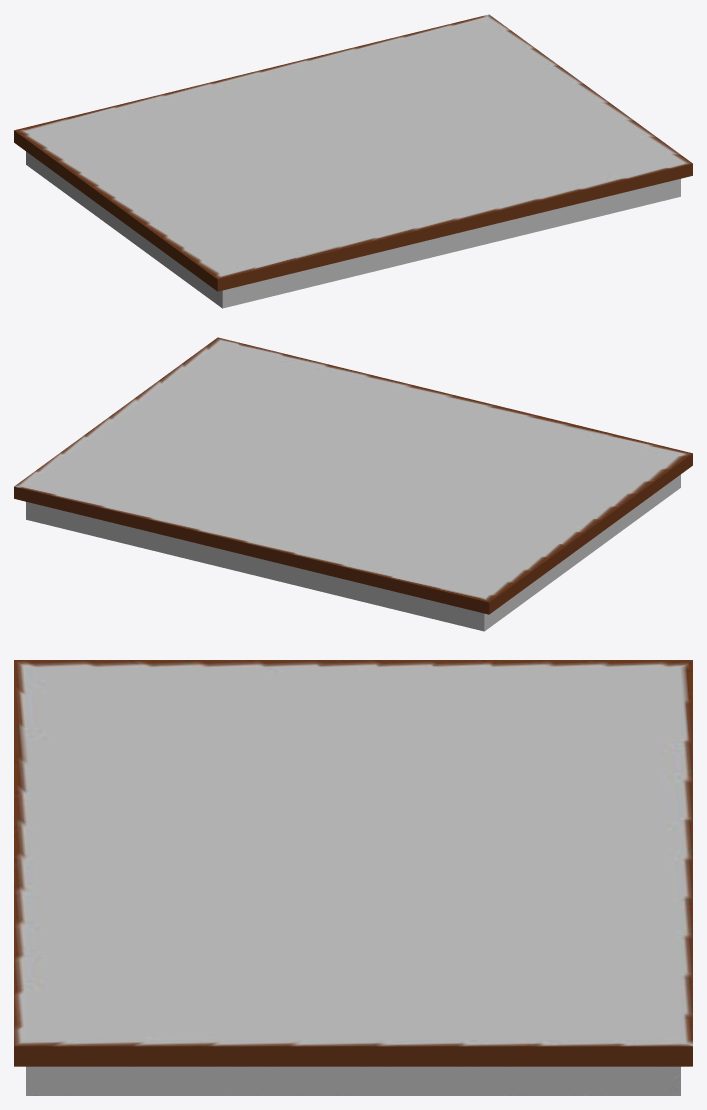
Rendered from Podium.fbx.
3 views of the same model, one above another, from view 1: azimuth 30°, elevation 25°; view 2: azimuth 150°, elevation 25°; view 3: azimuth 270°, elevation 25° (orthographic). The views are drawn at different scales.
Visible parts, largest first — view 1: Podium; view 2: Podium; view 3: Podium.
Part boxes in pixels (bbox=[...]): Podium: bbox=[14, 14, 692, 308]; Podium: bbox=[14, 337, 692, 631]; Podium: bbox=[14, 660, 692, 1095].
Size of the model in its own units: 5467 by 370 by 4061.
Materials: 1 (1 with a texture image).
